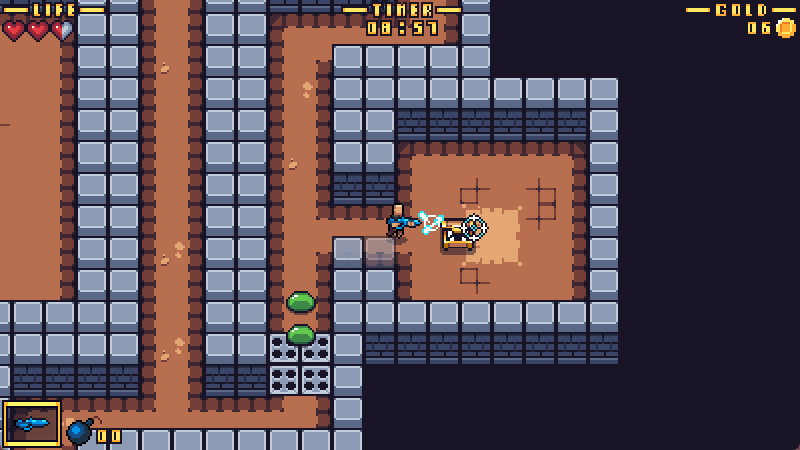aim: (460, 215, 487, 245)
bomb_counter_0: (66, 416, 123, 450)
enemy_slug: (269, 332, 333, 395), (286, 290, 316, 314), (286, 324, 316, 347)
gold_counter: (687, 1, 800, 38)
health-1: (1, 17, 75, 44)
player: (385, 202, 422, 239)
timer: (343, 1, 464, 36)
treasury_monster: (439, 216, 475, 250)
